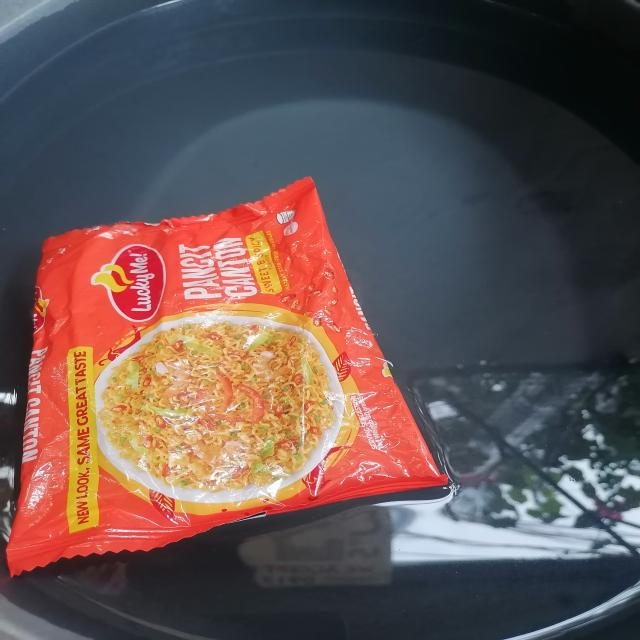Plastic Wrapper: (7, 178, 446, 575)
